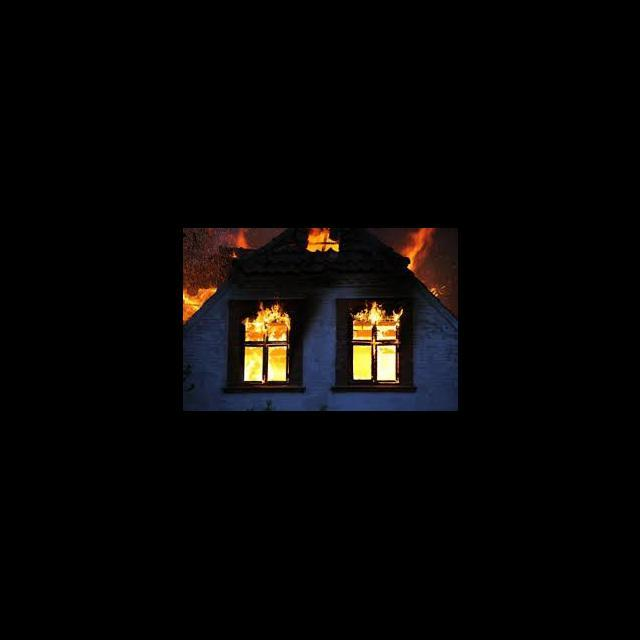Fire: (348, 302, 405, 382), (240, 302, 292, 384), (394, 228, 437, 274), (184, 284, 218, 324), (302, 228, 342, 254), (232, 228, 248, 248)
